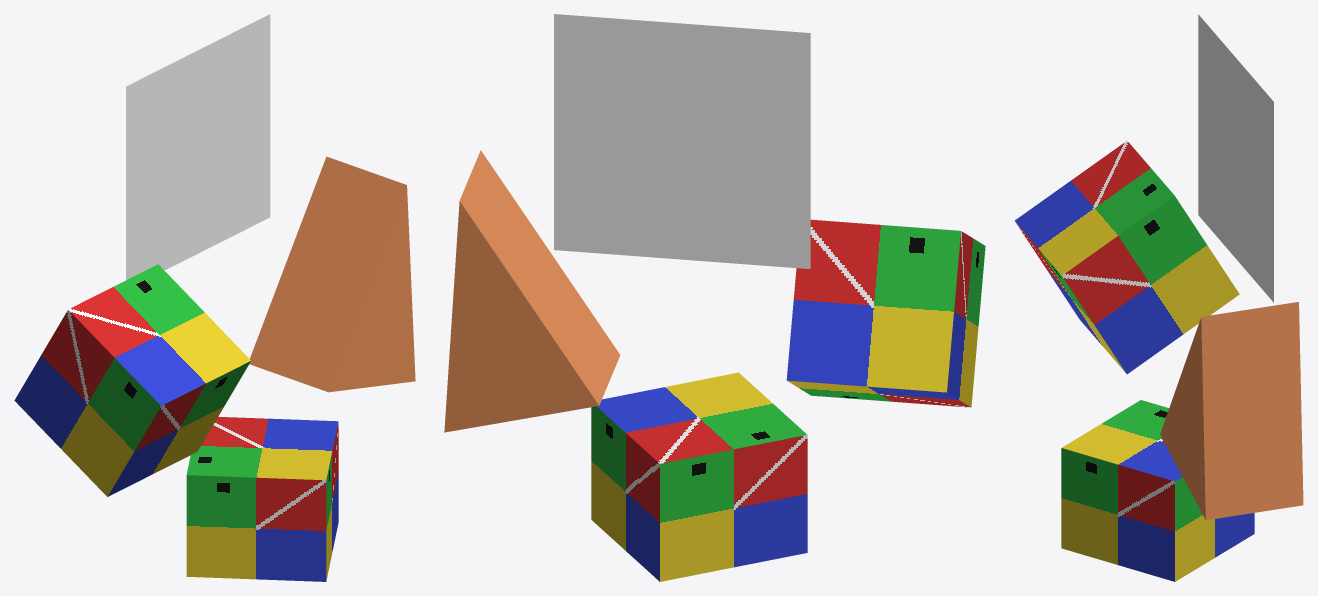
The picture shows the model from 3 angles, left to right: view 1: azimuth 30°, elevation 25°; view 2: azimuth 150°, elevation 25°; view 3: azimuth 270°, elevation 25°; orthographic projection. The views are drawn at different scales.
Visible parts, largest first — view 1: box (×2), panel, wedge; view 2: box (×2), panel, wedge; view 3: box (×2), wedge, panel.
Boxes of the visible parts, left/top/right/bottom form: box (×2): left=14, top=264, right=338, bottom=581; panel: left=126, top=14, right=270, bottom=279; wedge: left=249, top=156, right=415, bottom=392; box (×2): left=591, top=219, right=985, bottom=581; panel: left=554, top=14, right=810, bottom=269; wedge: left=444, top=150, right=620, bottom=432; box (×2): left=1014, top=140, right=1254, bottom=581; wedge: left=1160, top=302, right=1303, bottom=520; panel: left=1198, top=14, right=1273, bottom=302.
Size of the model in its own units: 3.36 by 3.75 by 2.08.
3 materials, 1 textured.
